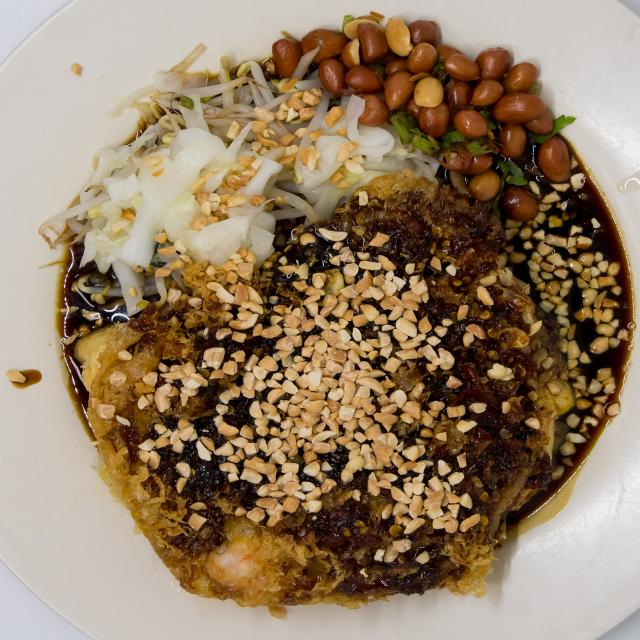Tahu-Telur: (51, 0, 608, 610)
